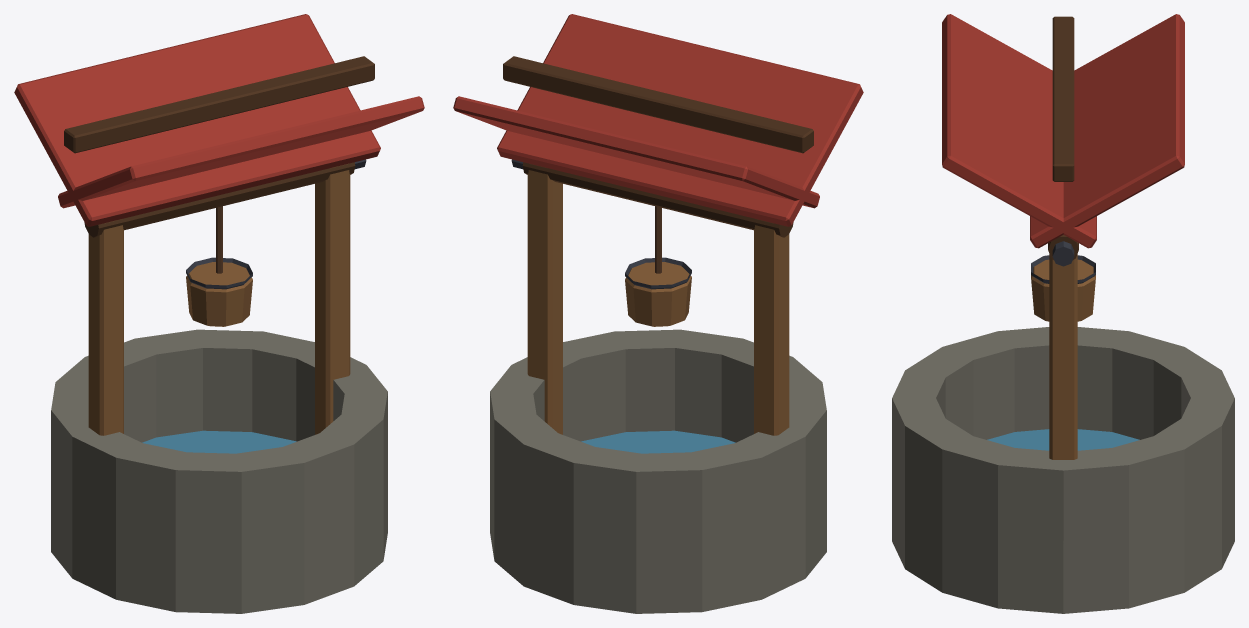
The model's file is well.fbx.
3 renders of one model, left to right at view 1: azimuth 30°, elevation 25°; view 2: azimuth 150°, elevation 25°; view 3: azimuth 270°, elevation 25°, orthographic.
Visible parts, largest first — view 1: well; view 2: well; view 3: well.
Part boxes in pixels (box(x1,y1,x2,y2)): well: box(14, 14, 424, 613); well: box(453, 14, 863, 613); well: box(892, 14, 1234, 613).
Size of the model in its own units: 160 by 229 by 156.
